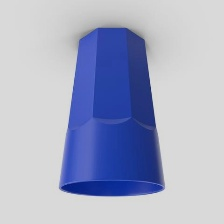glass: (54, 21, 171, 202)
